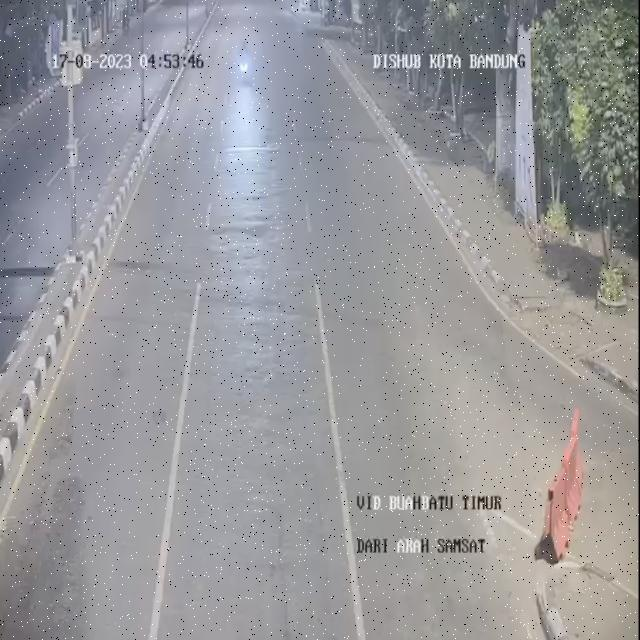motorcycle: (230, 33, 258, 89)
